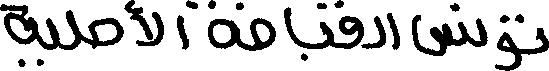X: (414, 0, 465, 60), (0, 0, 36, 70), (126, 0, 161, 50), (210, 0, 237, 53), (499, 9, 520, 70), (91, 13, 120, 53), (340, 0, 361, 53), (253, 13, 274, 55), (67, 5, 80, 54), (387, 8, 399, 54), (322, 0, 332, 53), (285, 2, 296, 48), (47, 13, 56, 54), (177, 10, 185, 54), (376, 11, 384, 52), (539, 23, 548, 57), (478, 13, 485, 51)
